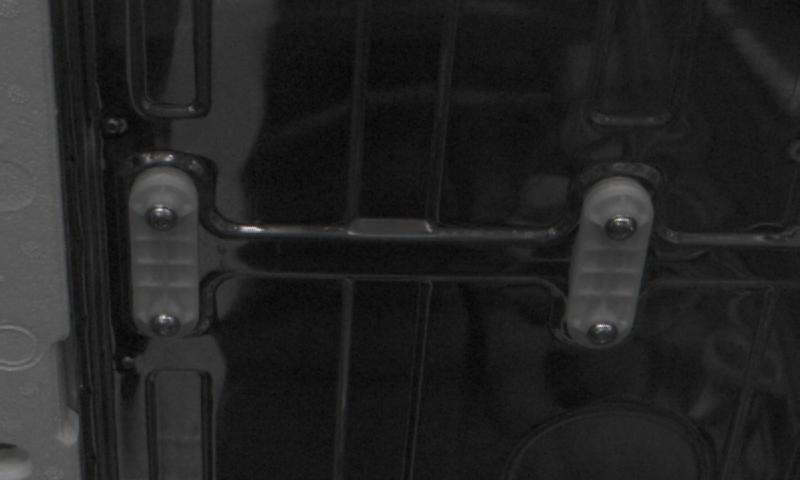vida-ok: (599, 208, 644, 247), (585, 311, 624, 351), (144, 197, 183, 236), (146, 305, 184, 340)
